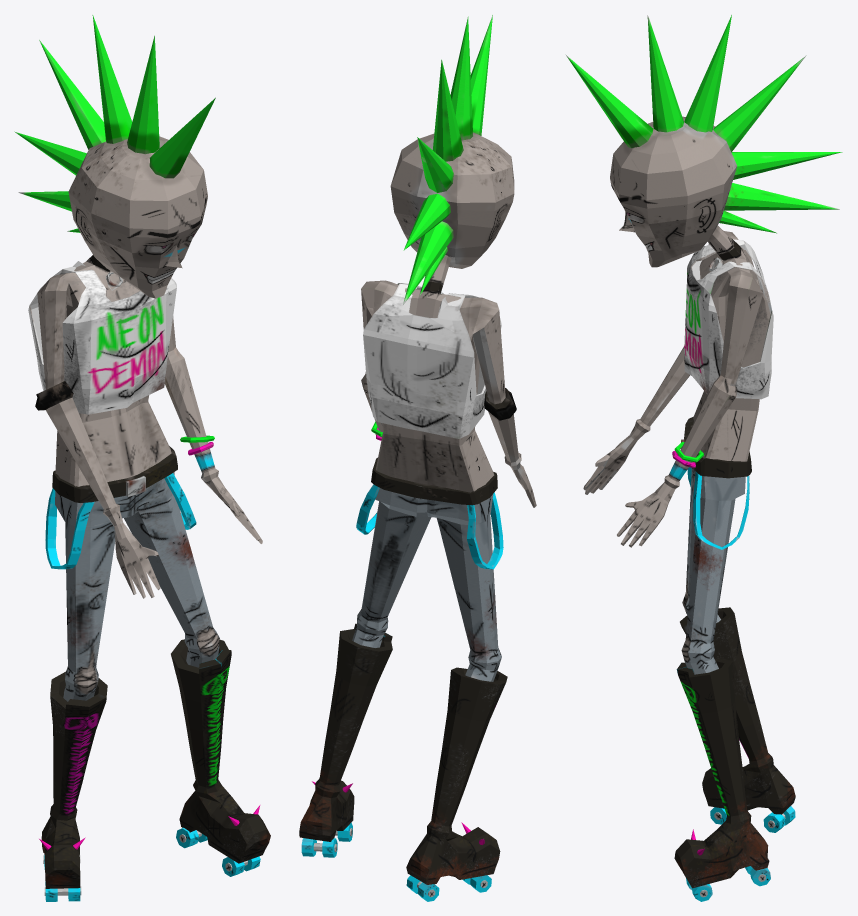
File: punkAnimation_000034.obj
3 views of the same model, side by side, from view 1: azimuth 30°, elevation 25°; view 2: azimuth 150°, elevation 25°; view 3: azimuth 270°, elevation 25° (orthographic). The views are drawn at different scales.
Parts seen in each view (by area): view 1: Cube.004_Cube.003; view 2: Cube.004_Cube.003; view 3: Cube.004_Cube.003.
Boxes of the visible parts, <box> form: Cube.004_Cube.003: <box>14,15,270,901</box>; Cube.004_Cube.003: <box>299,15,536,901</box>; Cube.004_Cube.003: <box>565,15,842,901</box>.
Bounding box in the file's own units: 1.96 × 7.5 × 2.28.
